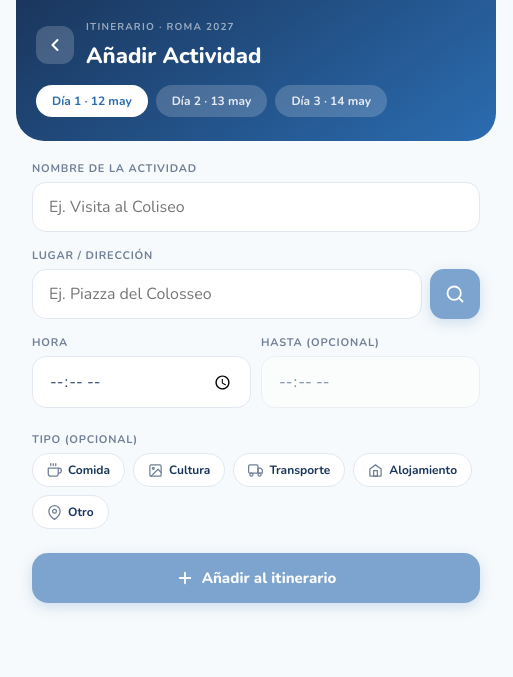
Test: AnadirActividad · buscador de direcciones › un resultado sin detalle muestra solo el título
Type "Colosseo" into the field labelled "Lugar / Dirección".
click(227, 294); type("Colosseo")  # box [32,269,422,319]
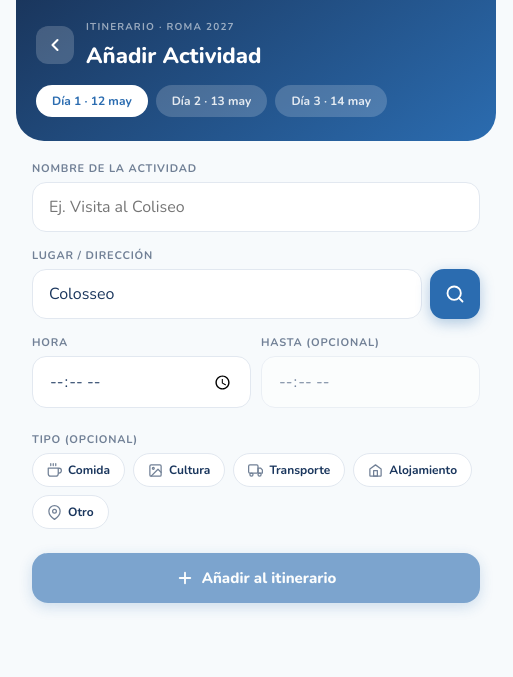
Click the button named "Buscar dirección".
click(455, 294)  # box [430,269,480,319]
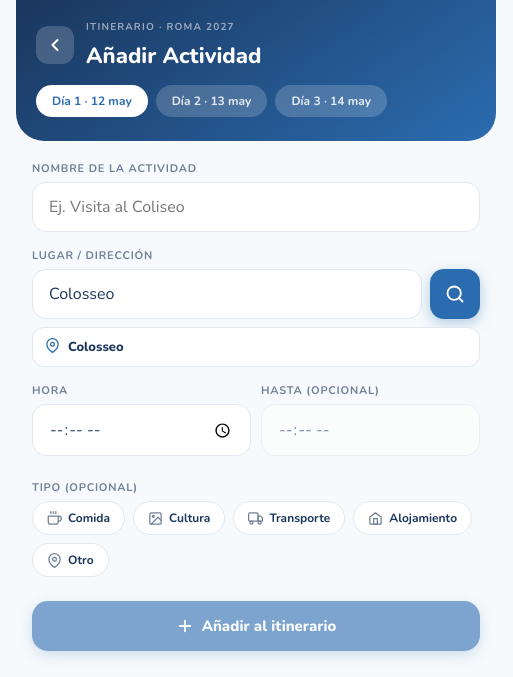
Check: the list item reads "Colosseo", box [32,327,480,368]
